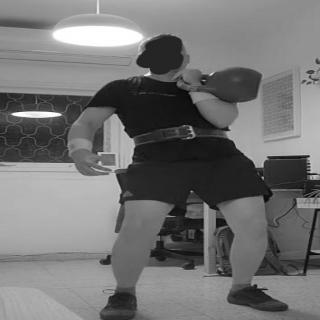kettlebell: (179, 66, 268, 104)
